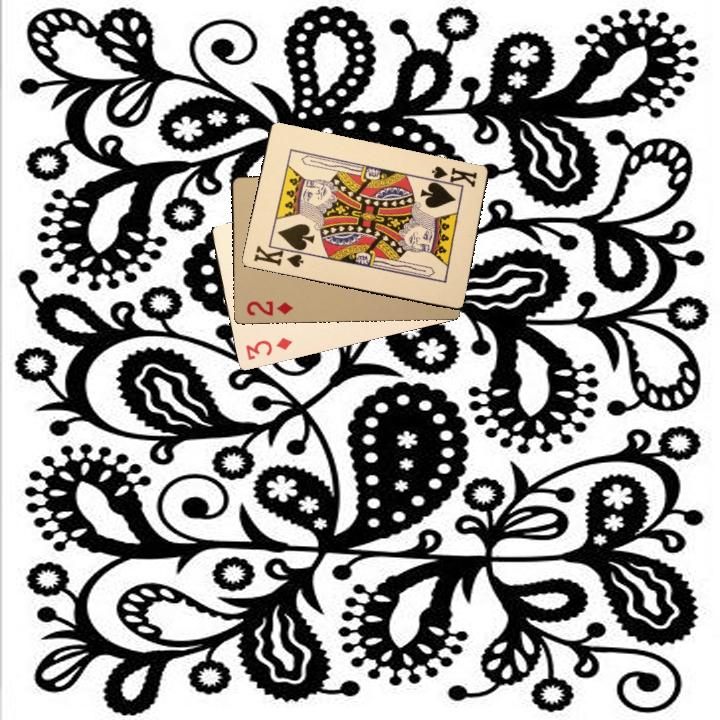2d: (242, 297, 295, 318)
3d: (242, 333, 295, 362)
Ks: (250, 240, 306, 270), (425, 162, 480, 191)
